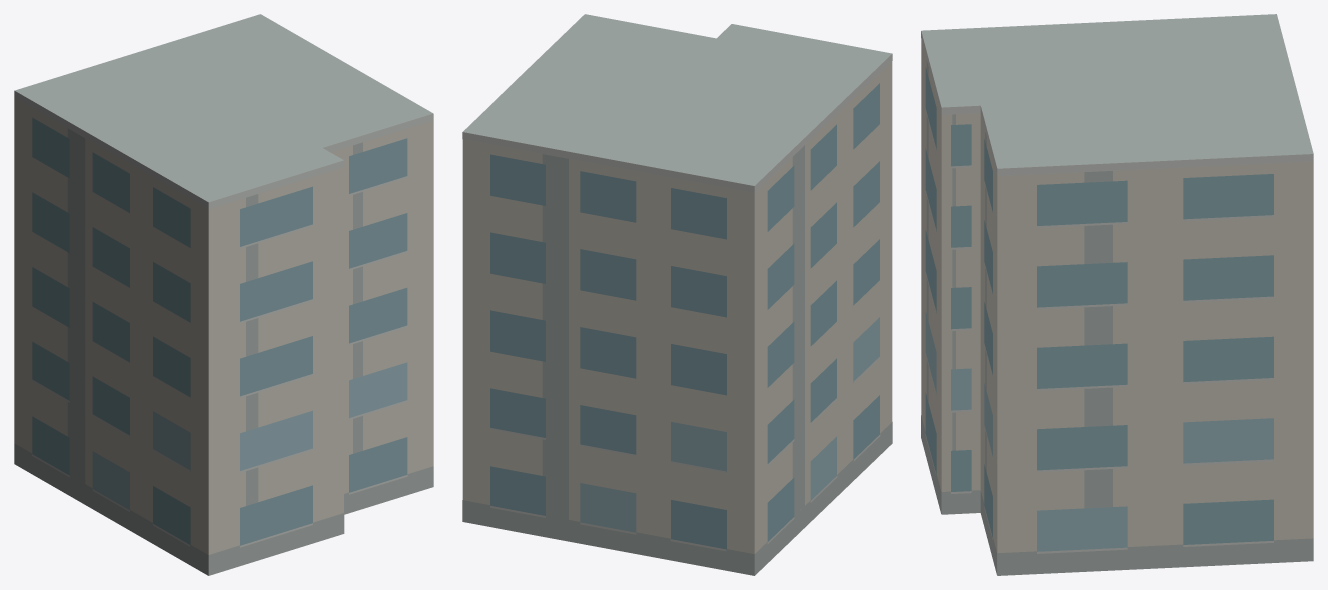
File: survey-upis-32811163.glb
3 renders of one model, left to right at view 1: azimuth 30°, elevation 25°; view 2: azimuth 150°, elevation 25°; view 3: azimuth 270°, elevation 25°, orthographic. The views are drawn at different scales.
Visible parts, largest first — view 1: survey-upis-32811163.tmp; view 2: survey-upis-32811163.tmp; view 3: survey-upis-32811163.tmp.
Part boxes in pixels (left/top/right/bottom): survey-upis-32811163.tmp: left=14, top=14, right=433, bottom=575; survey-upis-32811163.tmp: left=462, top=14, right=892, bottom=575; survey-upis-32811163.tmp: left=921, top=14, right=1313, bottom=575.
Bounding box in the file's own units: 10.77 × 13.2 × 11.54.
